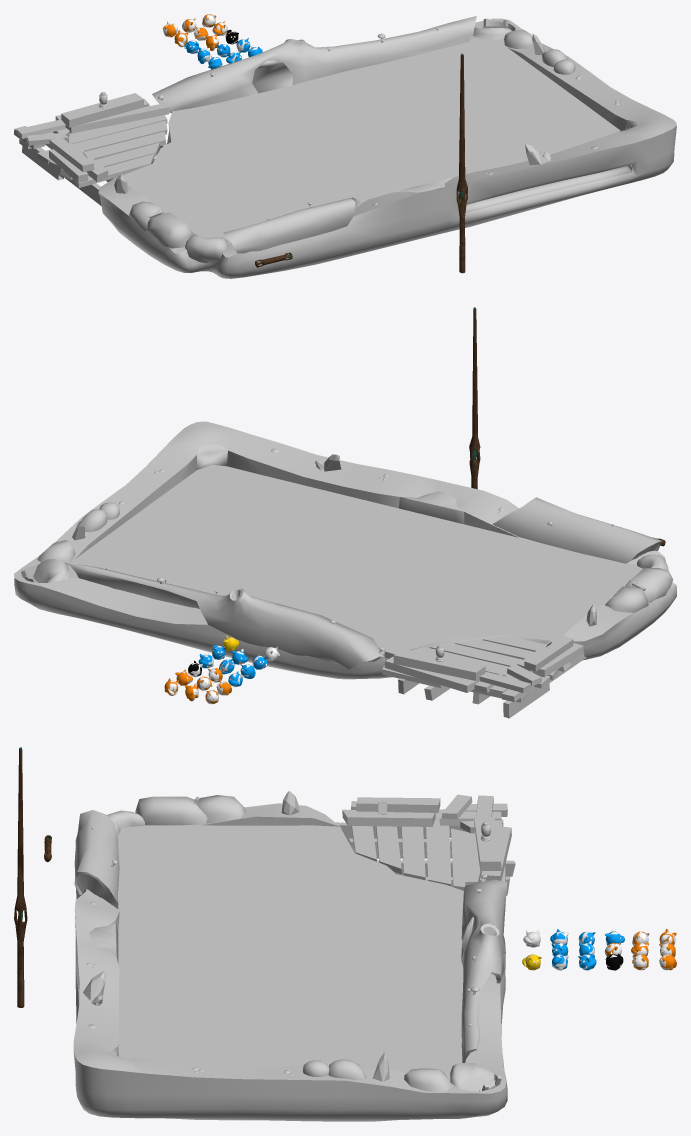
File: CottonFoxTable.fbx
The picture shows the model from 3 angles, top to bottom: view 1: azimuth 30°, elevation 25°; view 2: azimuth 150°, elevation 25°; view 3: azimuth 270°, elevation 25°; orthographic projection. The views are drawn at different scales.
Visible parts, largest first — view 1: cf-table, cf-4ball_filters, cf-cue; view 2: cf-table, cf-4ball_filters, cf-cue; view 3: cf-table, cf-4ball_filters, cf-cue.
Boxes of the visible parts, x1=… form: cf-table: x1=37, y1=16, x2=676, y2=278; cf-4ball_filters: x1=14, y1=27, x2=639, y2=263; cf-cue: x1=456, y1=53, x2=467, y2=273; cf-table: x1=14, y1=421, x2=676, y2=704; cf-4ball_filters: x1=33, y1=442, x2=668, y2=718; cf-cue: x1=469, y1=307, x2=480, y2=489; cf-table: x1=73, y1=791, x2=515, y2=1121; cf-4ball_filters: x1=89, y1=794, x2=507, y2=1091; cf-cue: x1=14, y1=747, x2=27, y2=1007.
Size of what is drawn, in the model's own units: 252 by 109 by 246.
